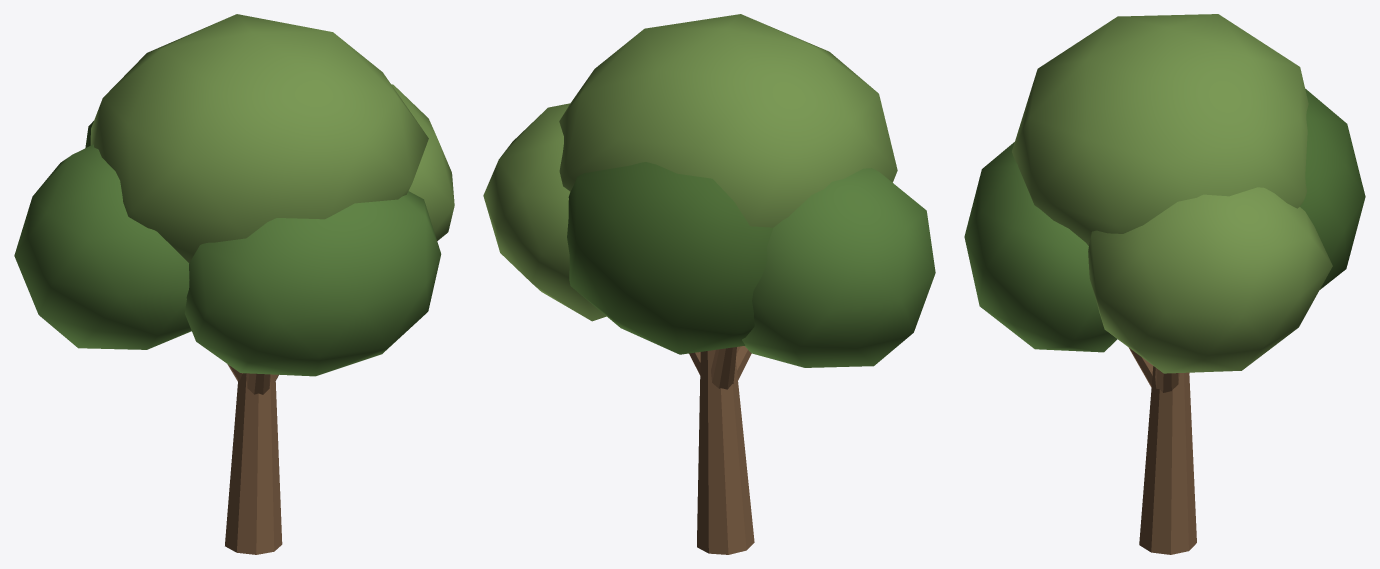
The model's file is valley_oak.glb.
The picture shows the model from 3 angles, left to right: view 1: azimuth 30°, elevation 25°; view 2: azimuth 150°, elevation 25°; view 3: azimuth 270°, elevation 25°; orthographic projection.
Visible parts, largest first — view 1: valley_oak; view 2: valley_oak; view 3: valley_oak.
Boxes of the visible parts, x1,y1,x2,y2 form: valley_oak: (14, 14, 454, 554); valley_oak: (483, 14, 935, 554); valley_oak: (964, 14, 1365, 554).
Size of the model in its own units: 5.32 by 6.34 by 4.48.
